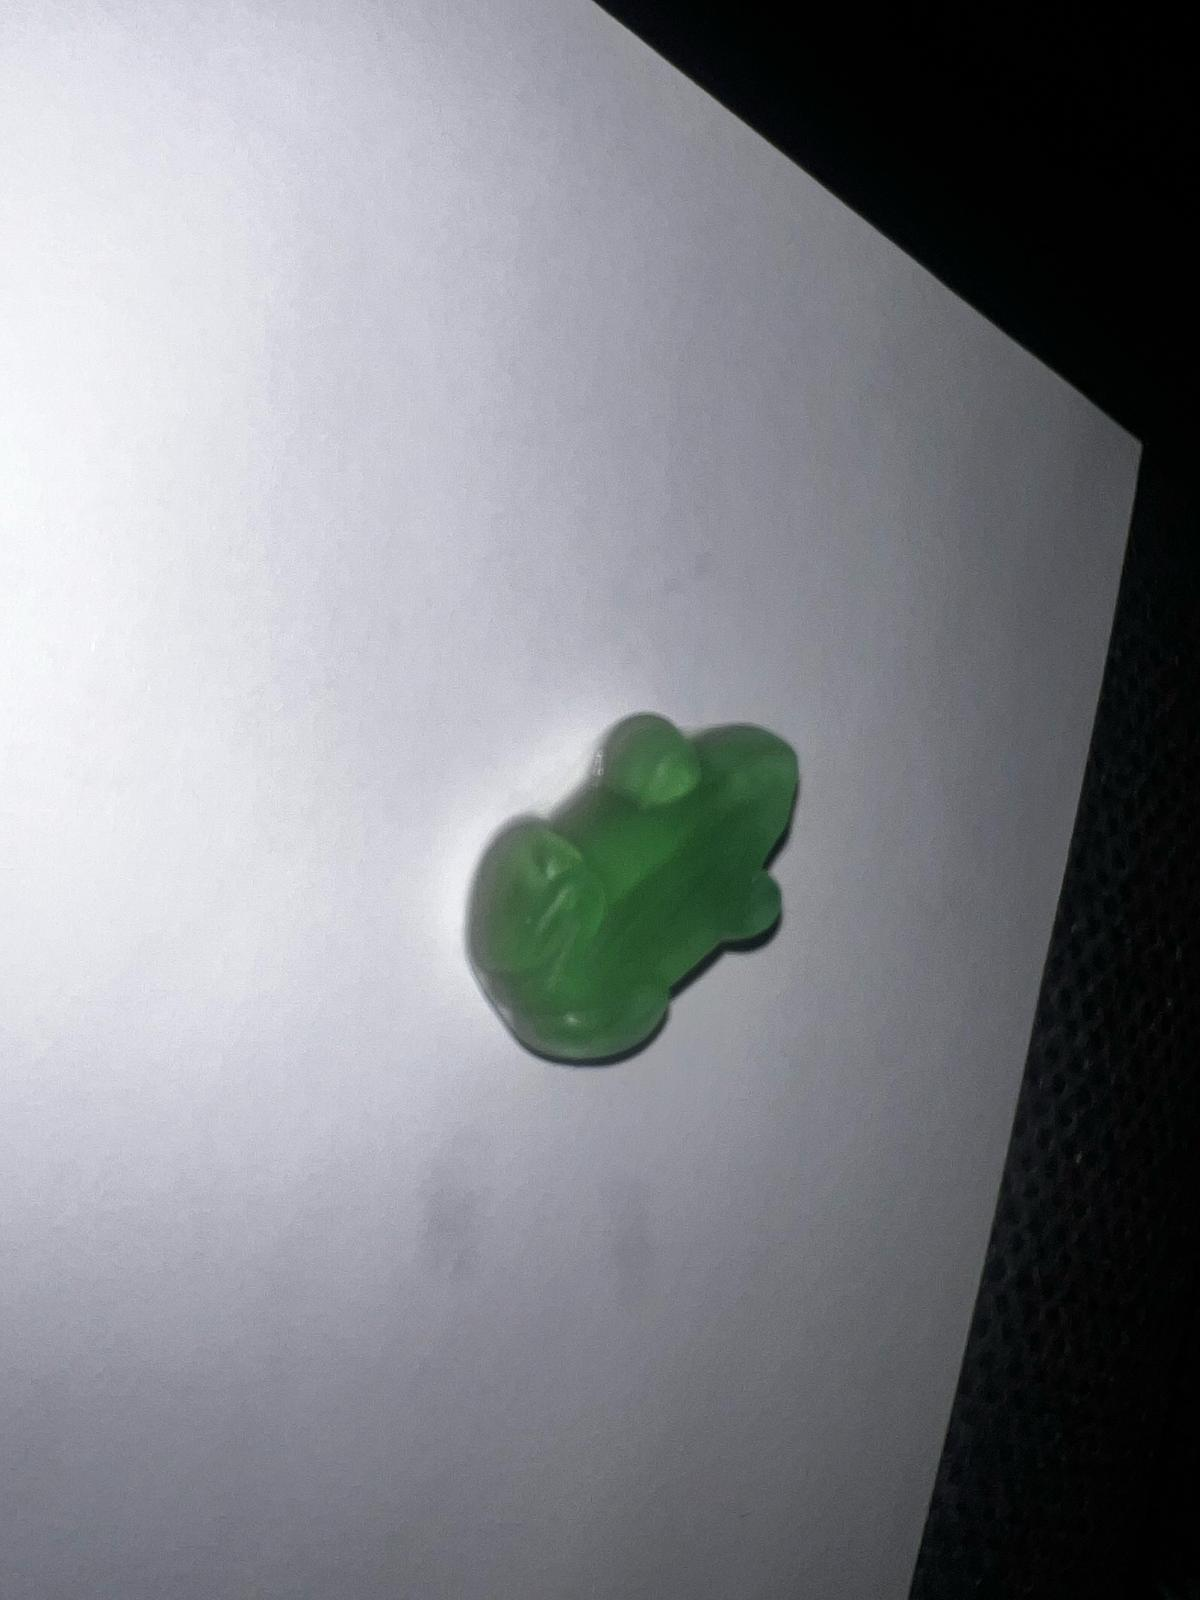frog: (461, 706, 821, 1073)
